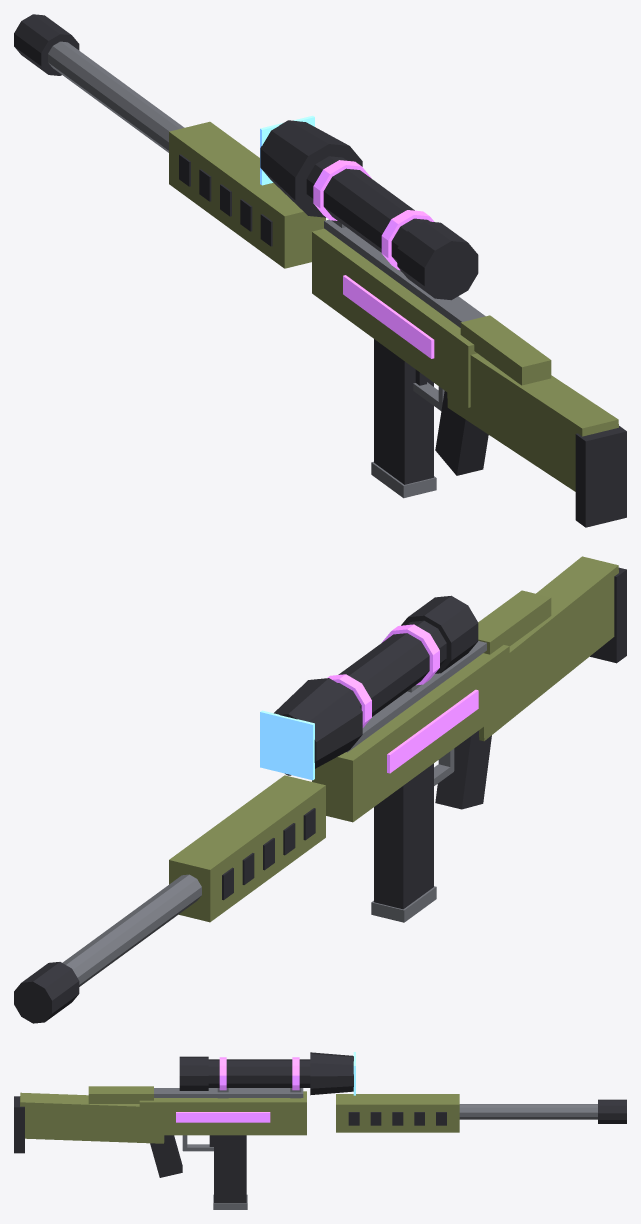
File: dmr.glb
3 views of the same model, one above another, from view 1: azimuth 30°, elevation 25°; view 2: azimuth 150°, elevation 25°; view 3: azimuth 270°, elevation 25° (orthographic). The views are drawn at different scales.
Parts seen in each view (by area): view 1: Dmr; view 2: Dmr; view 3: Dmr.
Part boxes in pixels (left/top/right/bottom): Dmr: left=14, top=14, right=626, bottom=527; Dmr: left=14, top=556, right=626, bottom=1023; Dmr: left=14, top=1052, right=626, bottom=1209.
Bounding box in the file's own units: 0.1141 × 0.46 × 1.68.
